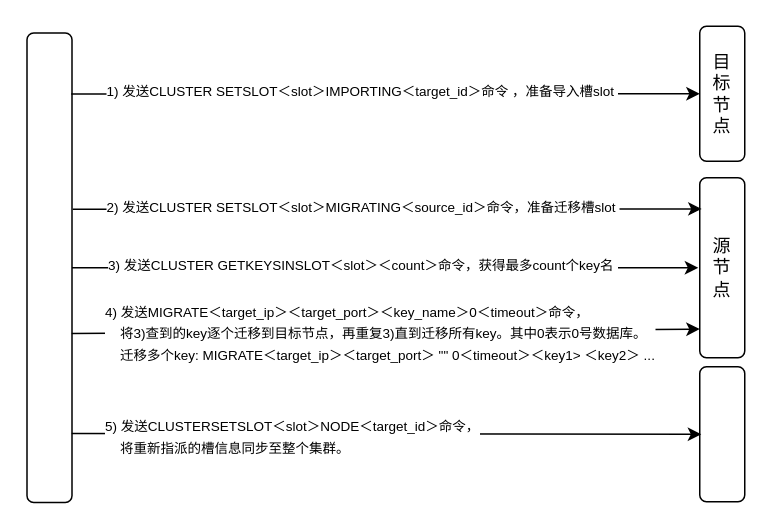
Image size: 771x530. Some labels were removed from this diagram. Each missing label, with the centre of its shape:
"redis-trib" goes at (x=49, y=267).
"其 他 节 点" goes at (x=721, y=433).
